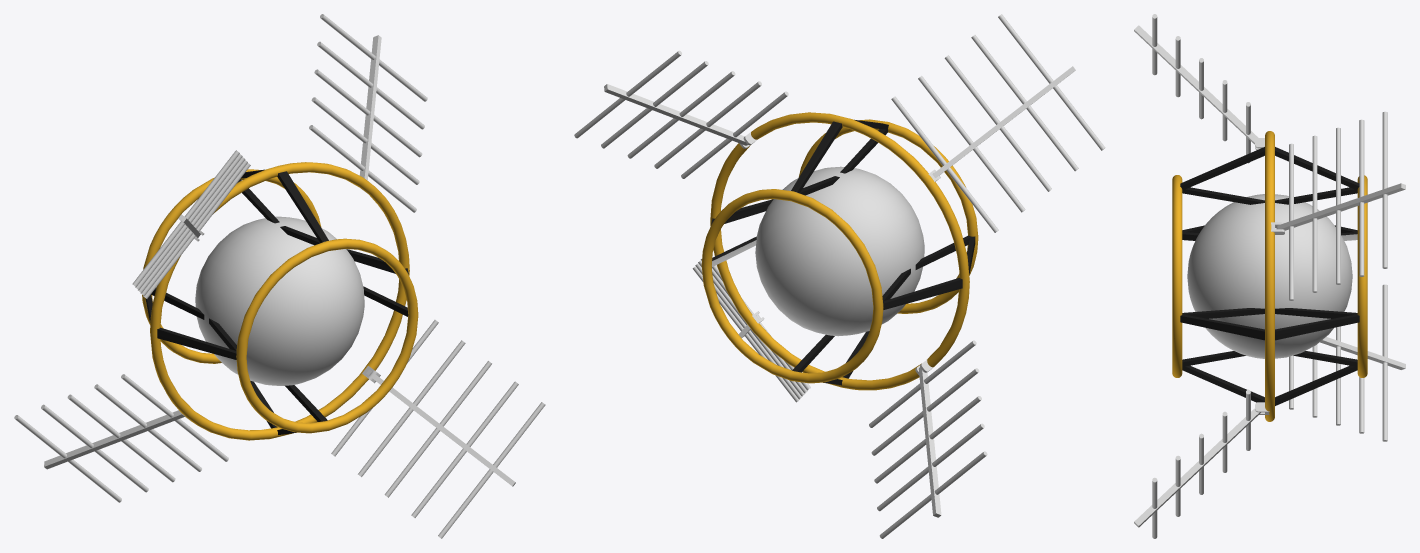
The model's file is Light and radar buoy v30.fbx.
The picture shows the model from 3 angles, left to right: view 1: azimuth 30°, elevation 25°; view 2: azimuth 150°, elevation 25°; view 3: azimuth 270°, elevation 25°; orthographic projection. The views are drawn at different scales.
Visible parts, largest first — view 1: Body1; view 2: Body1; view 3: Body1.
Part boxes in pixels (x1=…): Body1: x1=14, y1=14, x2=545, y2=538; Body1: x1=574, y1=14, x2=1105, y2=538; Body1: x1=1134, y1=14, x2=1405, y2=538.
Size of the model in its own units: 2.81 by 2.85 by 1.64.
